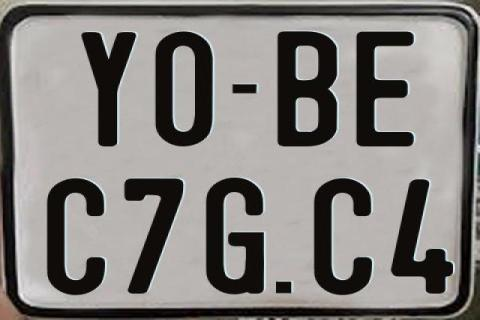0: (390, 178, 452, 296), (124, 179, 185, 297), (155, 31, 214, 149)
B: (277, 29, 341, 145)
C: (312, 176, 372, 298), (47, 176, 107, 294)
E: (356, 30, 414, 148)
G: (204, 176, 262, 296)
Y: (81, 32, 139, 147)
